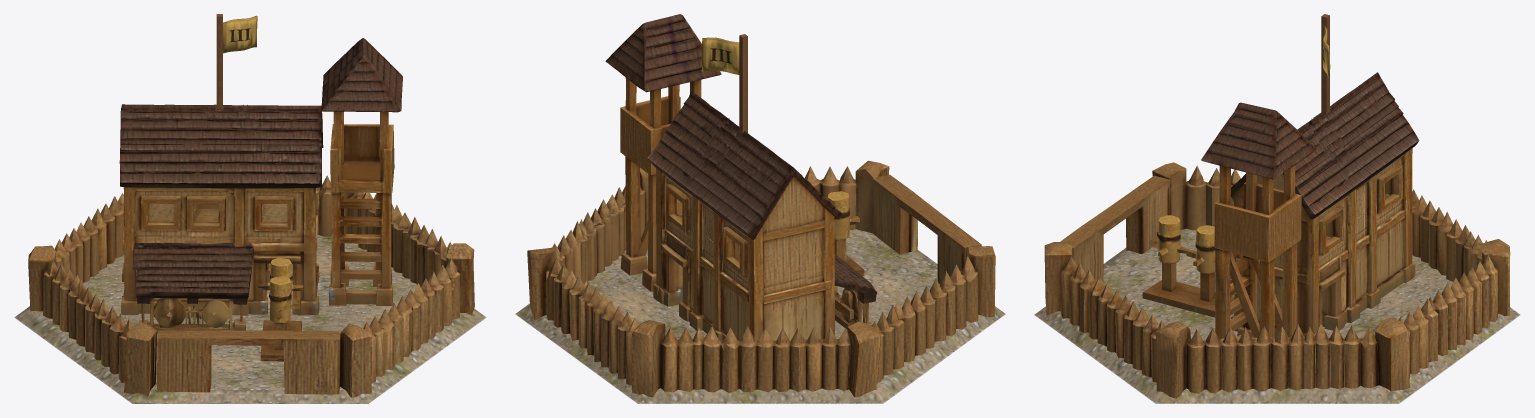
Rendered from barracks-3.glb.
The picture shows the model from 3 angles, left to right: view 1: azimuth 30°, elevation 25°; view 2: azimuth 150°, elevation 25°; view 3: azimuth 270°, elevation 25°; orthographic projection. The views are drawn at different scales.
Parts seen in each view (by area): view 1: architecture, ground, tier-banner; view 2: architecture, ground, tier-banner; view 3: architecture, ground.
Part boxes in pixels (bbox=[...]): architecture: bbox=[28, 14, 474, 397]; ground: bbox=[14, 235, 486, 403]; tier-banner: bbox=[223, 15, 257, 53]; architecture: bbox=[527, 14, 995, 397]; ground: bbox=[515, 229, 1005, 403]; tier-banner: bbox=[701, 37, 739, 74]; architecture: bbox=[1044, 14, 1510, 398]; ground: bbox=[1034, 228, 1520, 403].
Bounding box in the file's own units: 1.59 × 1.23 × 1.84.
Materials: 3 (3 with a texture image).
